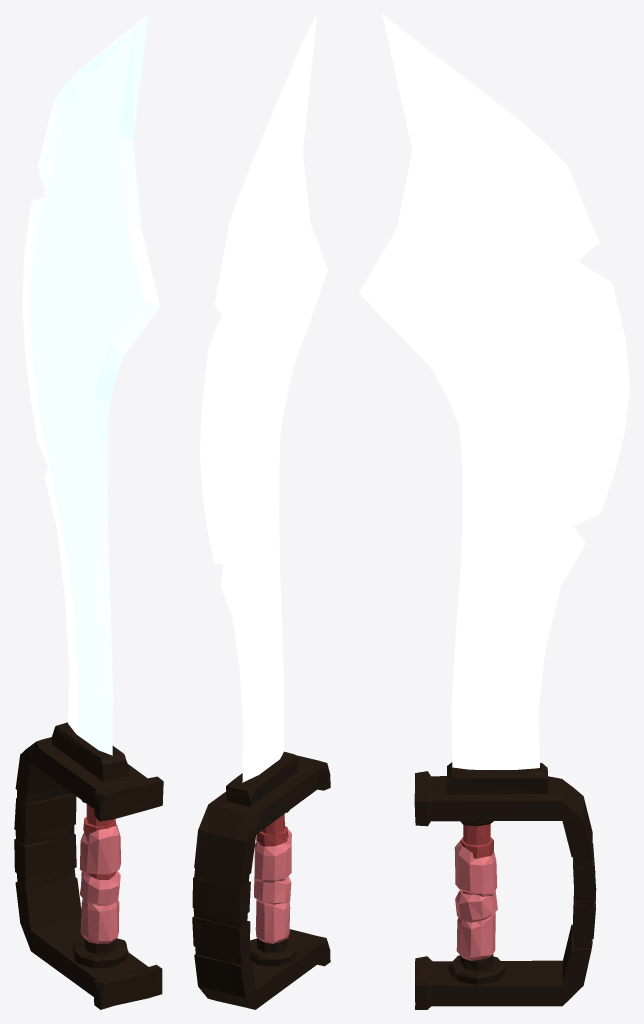
Rendered from SFFA_Weapon_Sword_Runical_001.fbx.
3 renders of one model, left to right at view 1: azimuth 30°, elevation 25°; view 2: azimuth 150°, elevation 25°; view 3: azimuth 270°, elevation 25°, orthographic. The views are drawn at different scales.
Visible parts, largest first — view 1: SFFA_Weapon_Sword_Runical_001; view 2: SFFA_Weapon_Sword_Runical_001; view 3: SFFA_Weapon_Sword_Runical_001.
Boxes of the visible parts, x1=… form: SFFA_Weapon_Sword_Runical_001: x1=14, y1=14, x2=163, y2=1009; SFFA_Weapon_Sword_Runical_001: x1=192, y1=14, x2=330, y2=1009; SFFA_Weapon_Sword_Runical_001: x1=359, y1=14, x2=629, y2=1009.
Bounding box in the file's own units: 6.06 × 91.03 × 22.74.
